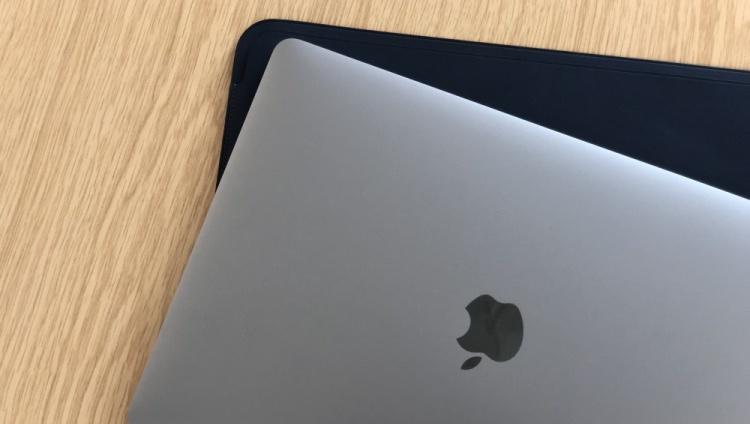apple: (454, 285, 540, 404)
